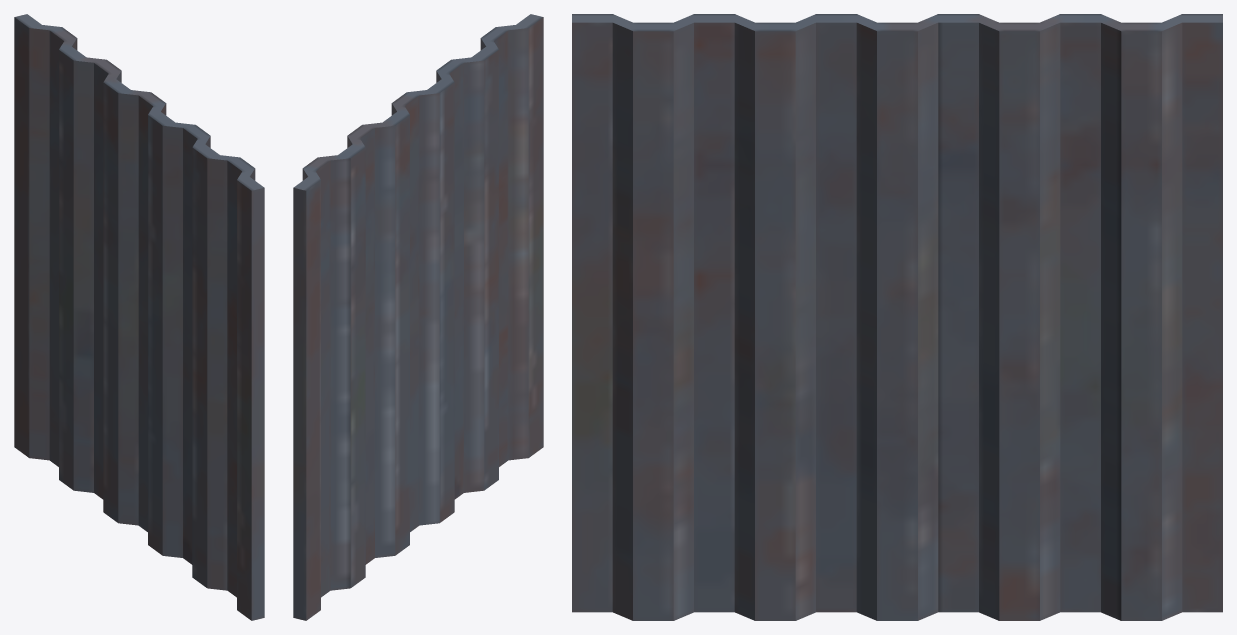
File: Corrugated_Iron.fbx
3 renders of one model, left to right at view 1: azimuth 30°, elevation 25°; view 2: azimuth 150°, elevation 25°; view 3: azimuth 270°, elevation 25°, orthographic. The views are drawn at different scales.
Parts seen in each view (by area): view 1: Corrugated_Iron_Sheet; view 2: Corrugated_Iron_Sheet; view 3: Corrugated_Iron_Sheet.
Part boxes in pixels (x1=…): Corrugated_Iron_Sheet: x1=14, y1=14, x2=264, y2=620; Corrugated_Iron_Sheet: x1=293, y1=14, x2=543, y2=620; Corrugated_Iron_Sheet: x1=572, y1=14, x2=1222, y2=620.
Size of the model in its own units: 12.5 by 200 by 200.
1 material, 1 textured.
